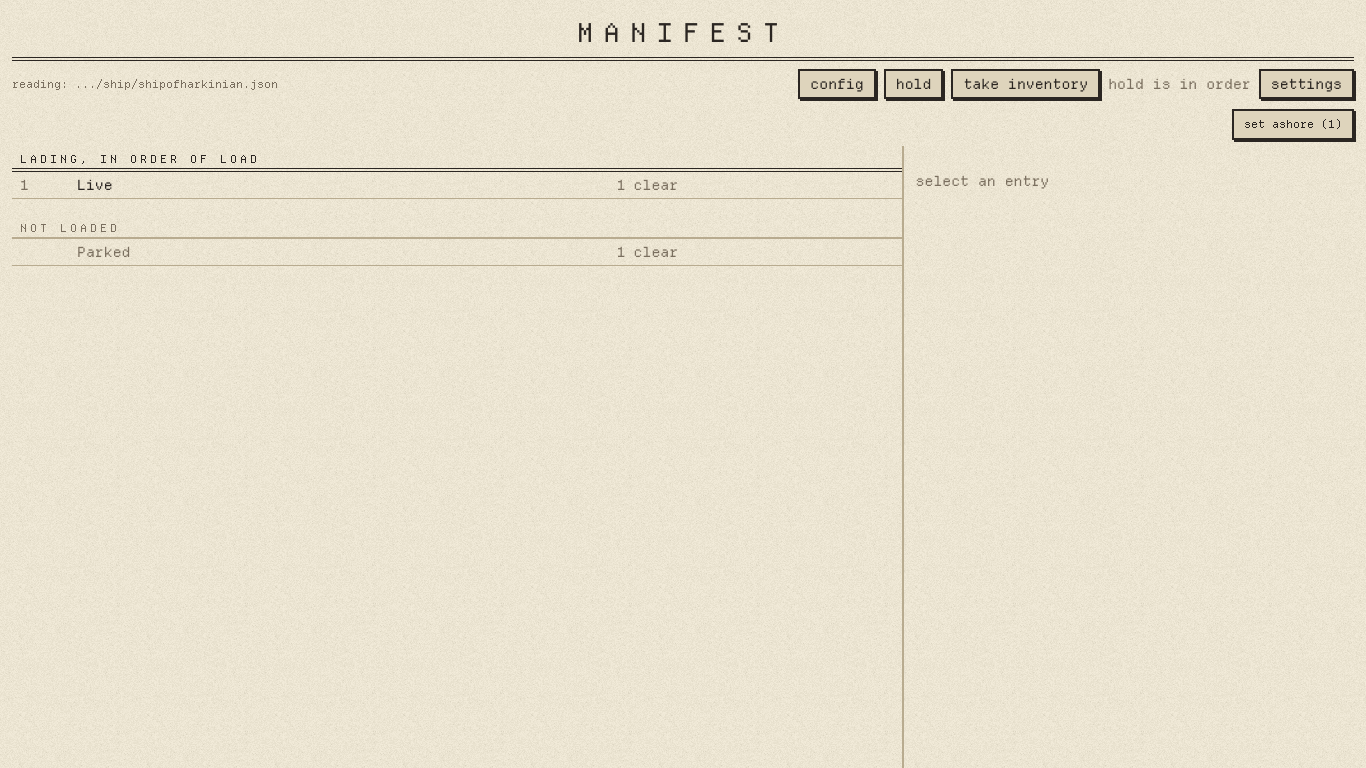
Test case: App › closes the ashore modal when the last mod is hauled back
Click the button "set ashore (1)" at (1293, 124), box 1232,109 -> 1354,140
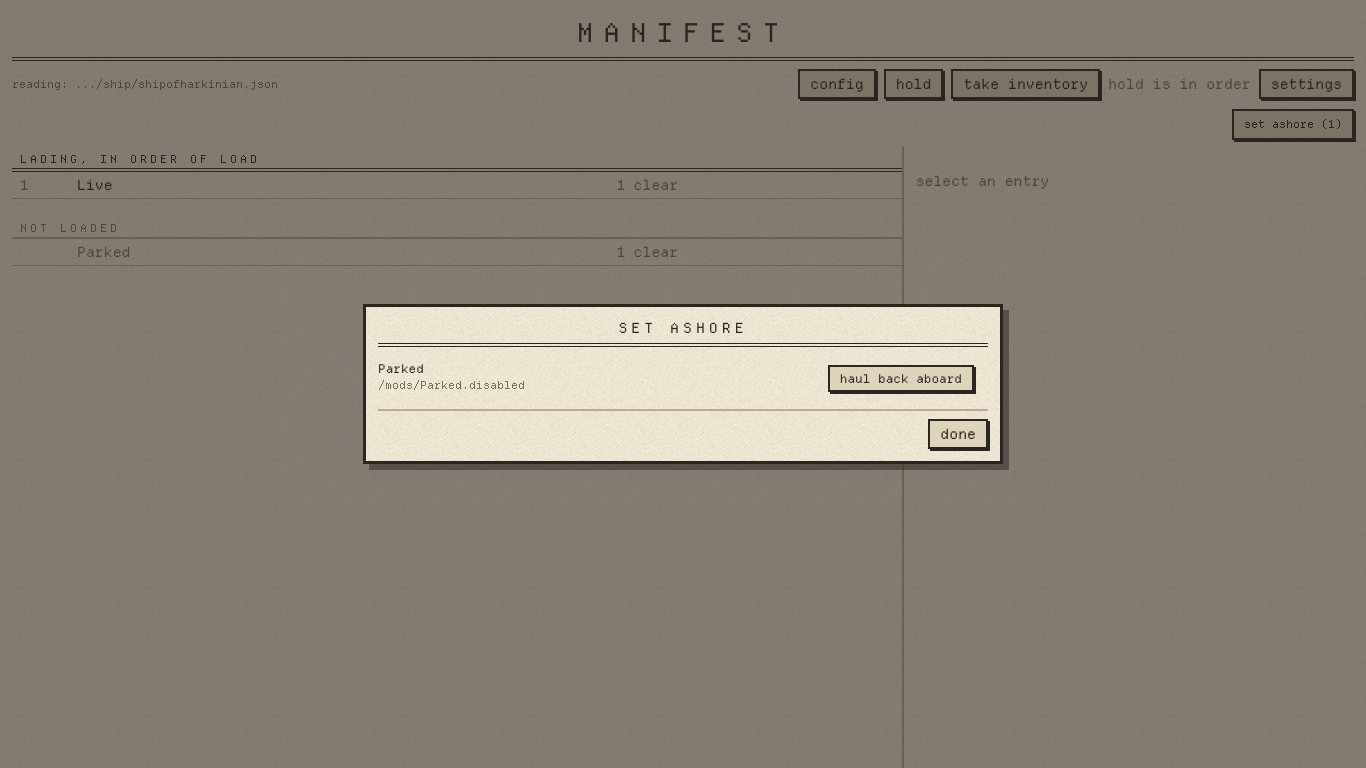
Click the button "haul back aboard" at (901, 378), box 828,364 -> 974,392
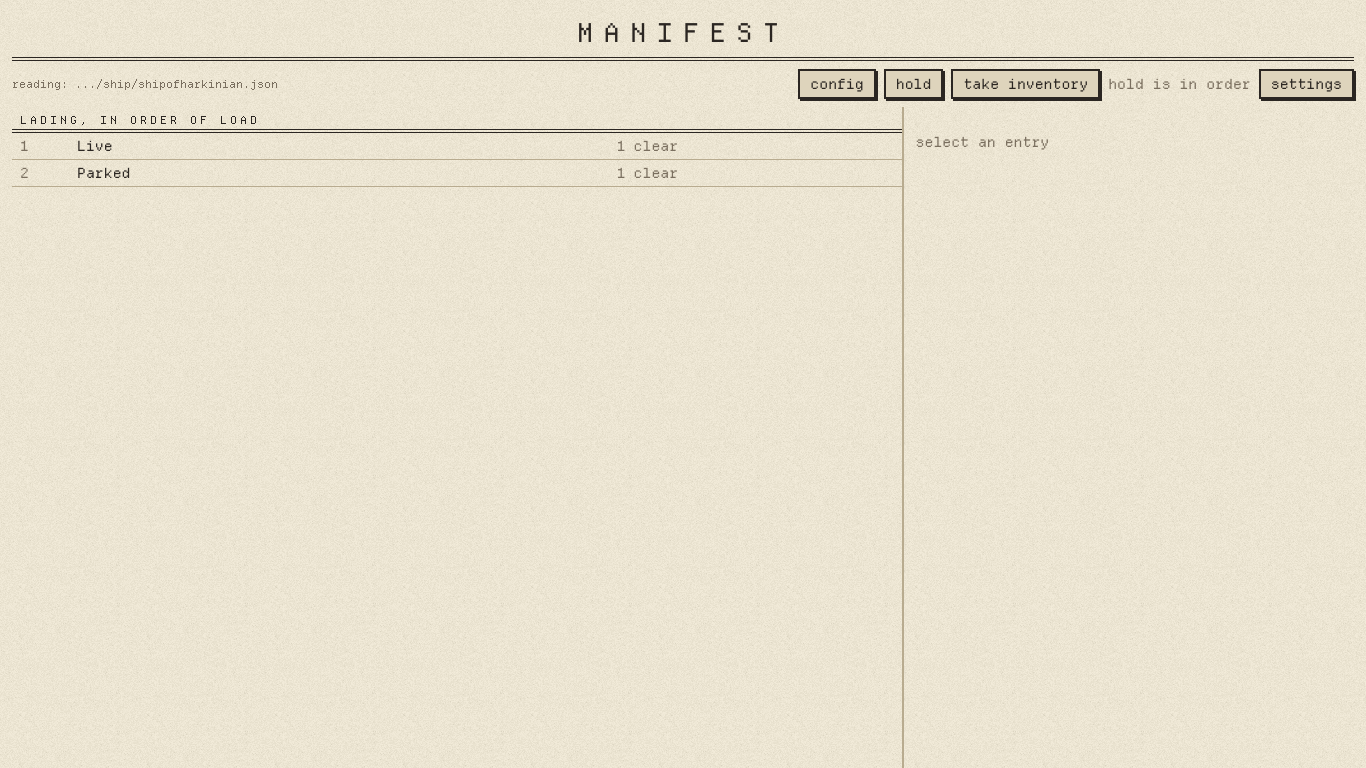
Now the button "set ashore" is gone
Now the button "set ashore (" is gone
